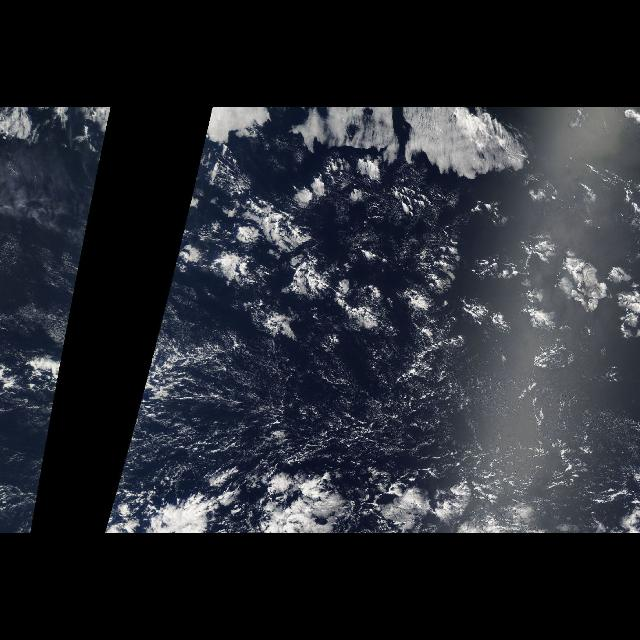Flower: (188, 148, 640, 382)
Sugar: (165, 354, 580, 478)
